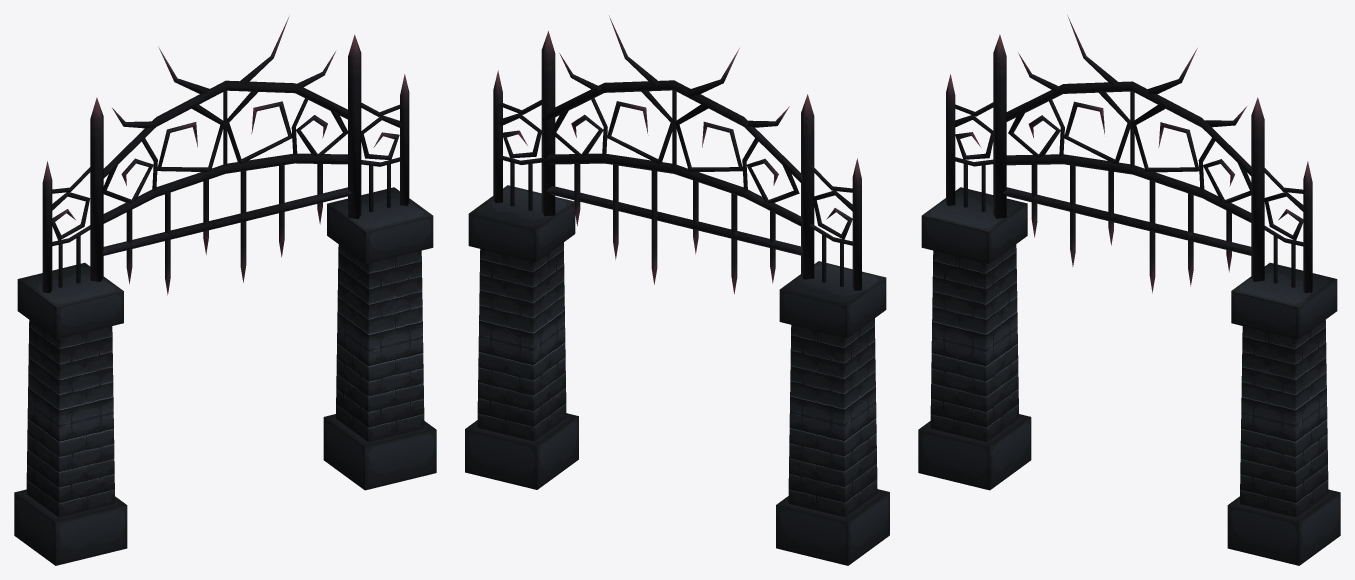
Rendered from Gate_A.fbx.
The picture shows the model from 3 angles, left to right: view 1: azimuth 30°, elevation 25°; view 2: azimuth 150°, elevation 25°; view 3: azimuth 330°, elevation 25°; orthographic projection.
Parts seen in each view (by area): view 1: Gate_A; view 2: Gate_A; view 3: Gate_A.
Boxes of the visible parts, x1,y1,x2,y2 form: Gate_A: [14, 16, 436, 565]; Gate_A: [465, 16, 889, 565]; Gate_A: [918, 15, 1340, 565].
Bounding box in the file's own units: 193 × 229 × 36.39.
1 material, 1 textured.
